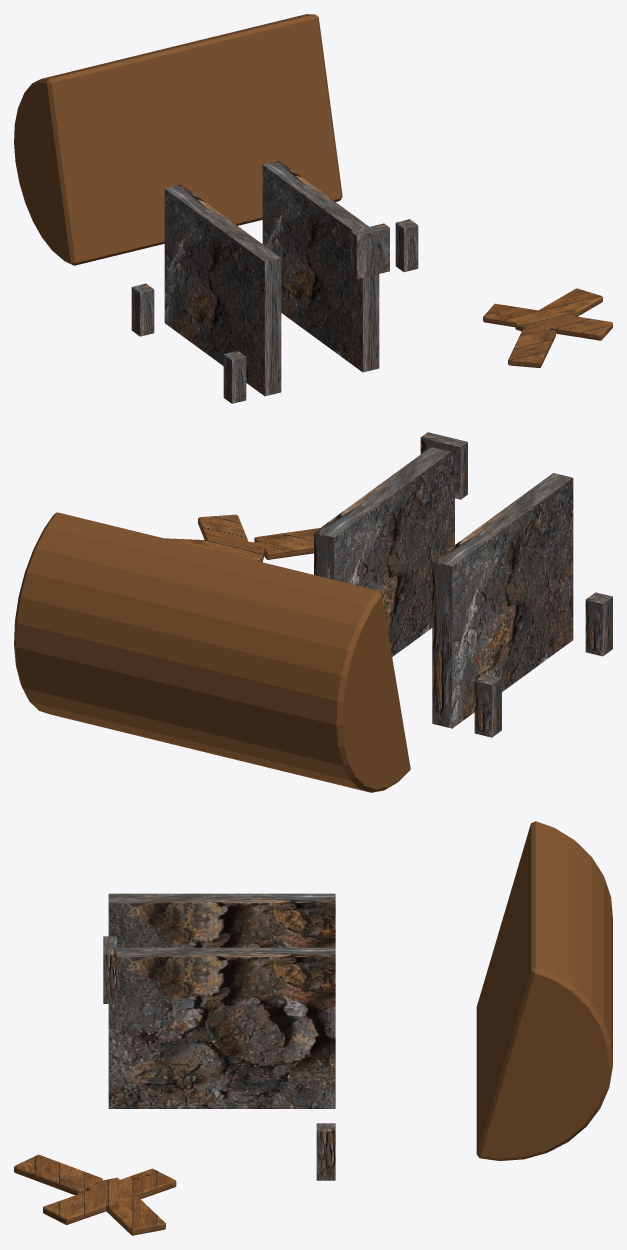
The model's file is broken-chest-v01.glb.
3 views of the same model, one above another, from view 1: azimuth 30°, elevation 25°; view 2: azimuth 150°, elevation 25°; view 3: azimuth 270°, elevation 25° (orthographic). The views are drawn at different scales.
Visible parts, largest first — view 1: broken-chest; view 2: broken-chest; view 3: broken-chest.
Part boxes in pixels (x1,y1,x2,y2): broken-chest: (14, 14, 612, 403); broken-chest: (14, 432, 612, 792); broken-chest: (14, 821, 612, 1235).
Bounding box in the file's own units: 1.82 × 0.8476 × 2.19.
Materials: 2 (2 with a texture image).
